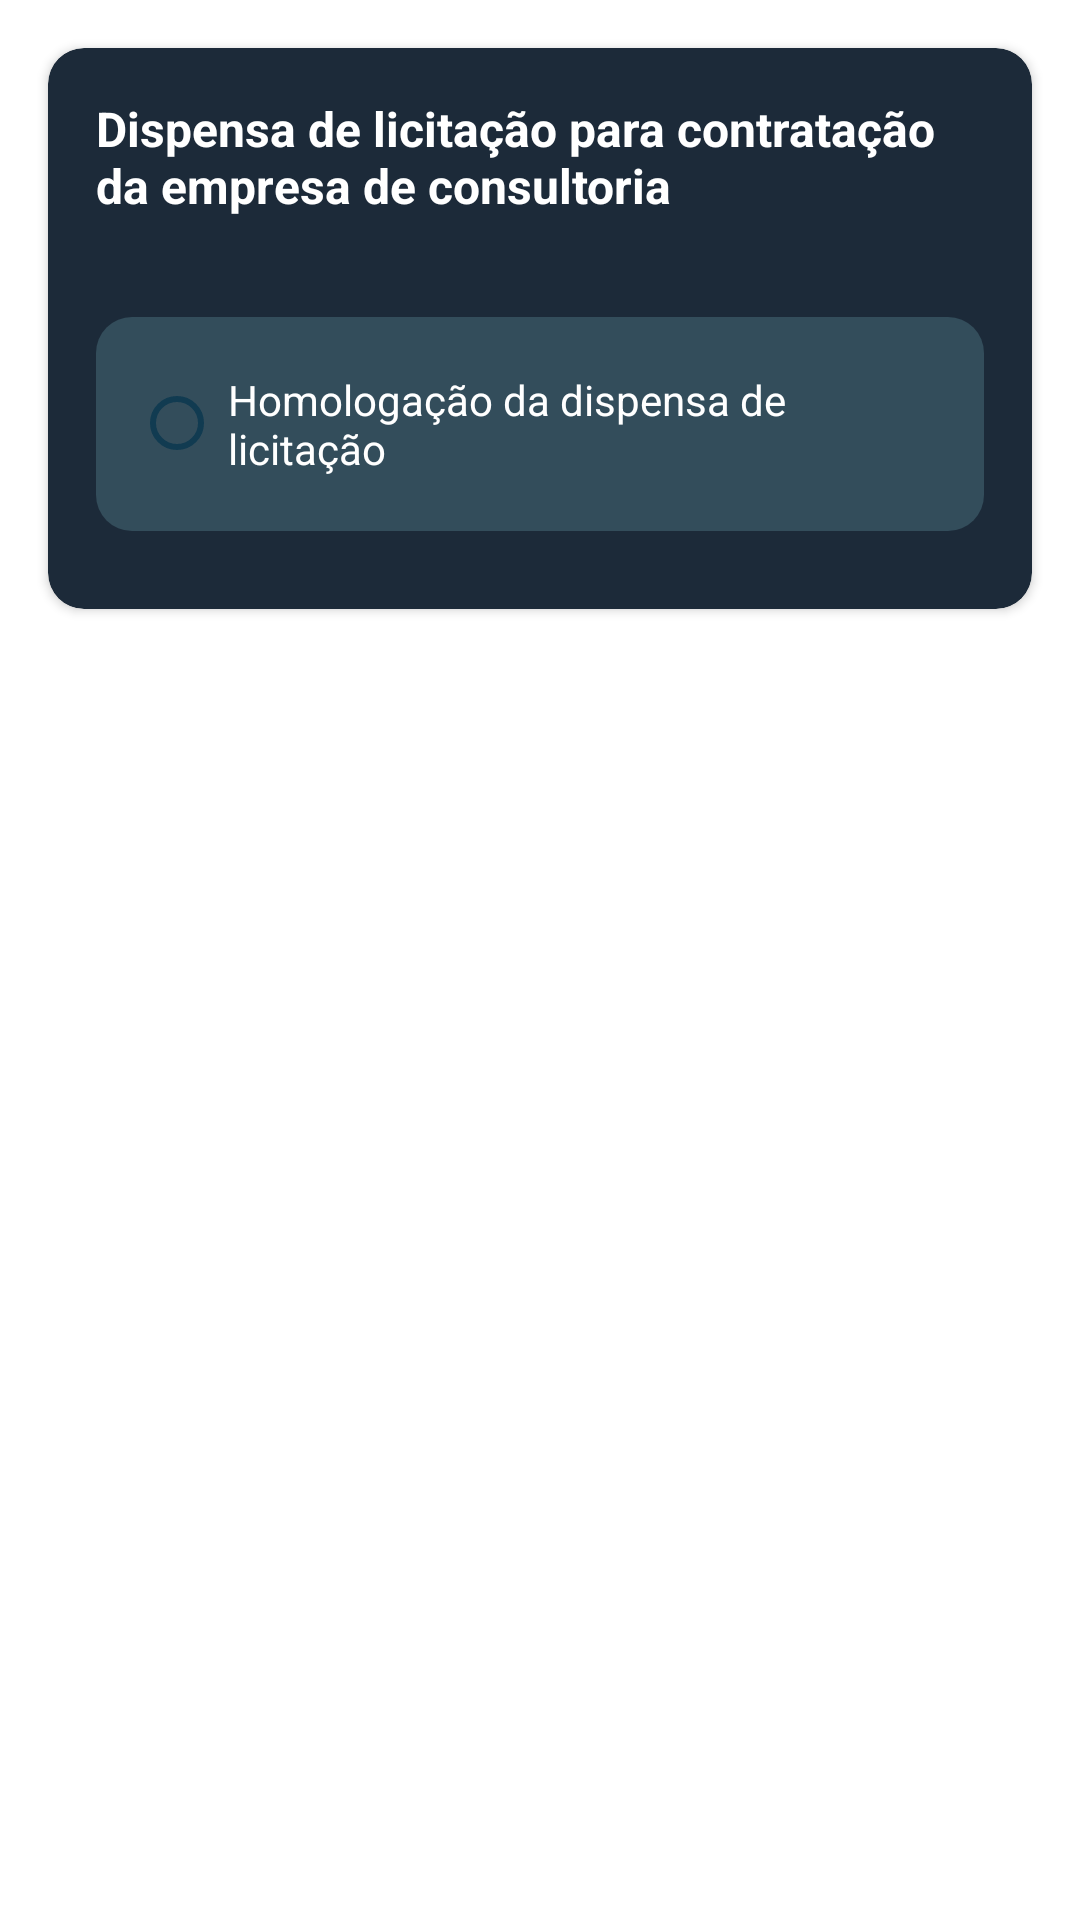

Icon bounding boxes for this 1080×1920 phone screenshot, format (x1, y1, x2, y2):
checkbox: (150, 396, 204, 450)
